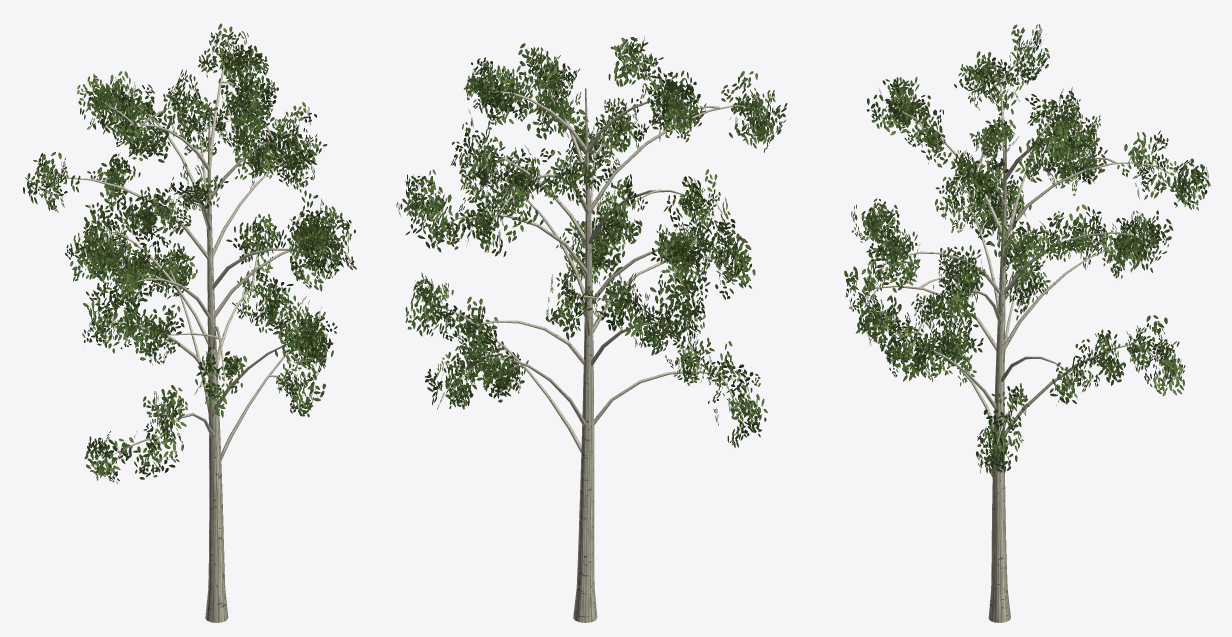
The model's file is paper_birch_LOD1.glb.
3 renders of one model, left to right at view 1: azimuth 30°, elevation 25°; view 2: azimuth 150°, elevation 25°; view 3: azimuth 270°, elevation 25°, orthographic. The views are drawn at different scales.
Parts seen in each view (by area): view 1: paper_birch_foliage, paper_birch_wood; view 2: paper_birch_foliage, paper_birch_wood; view 3: paper_birch_foliage, paper_birch_wood.
Part boxes in pixels (x1,y1,x2,y2): paper_birch_foliage: (23, 23, 356, 483); paper_birch_wood: (51, 57, 335, 622); paper_birch_foliage: (396, 36, 787, 447); paper_birch_wood: (422, 62, 759, 622); paper_birch_foliage: (844, 24, 1210, 479); paper_birch_wood: (861, 57, 1181, 622).
Bounding box in the file's own units: 9.05 × 17.24 × 10.83.
Materials: 2 (2 with a texture image).
